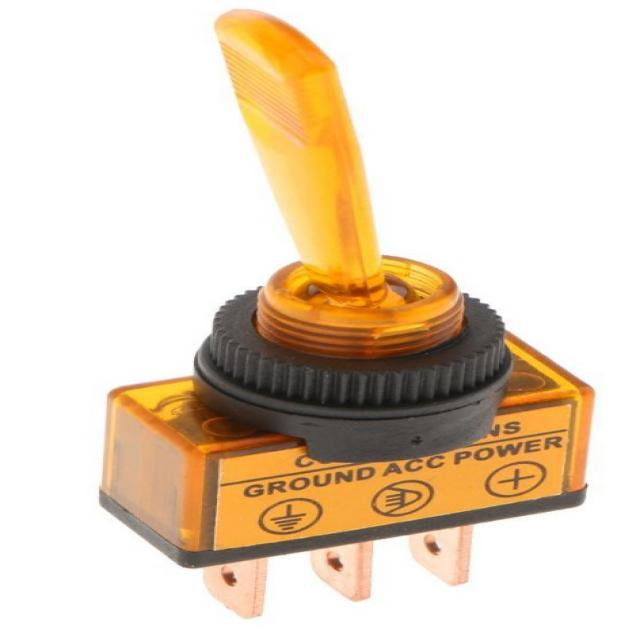toggle switch: (190, 10, 515, 461)
